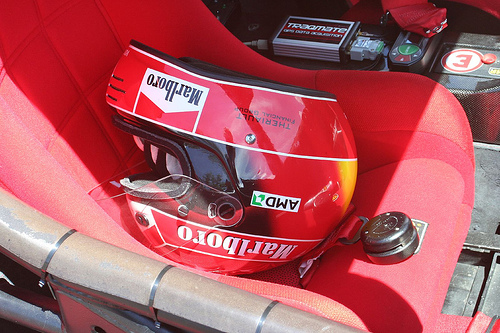helmet: (116, 59, 357, 276)
